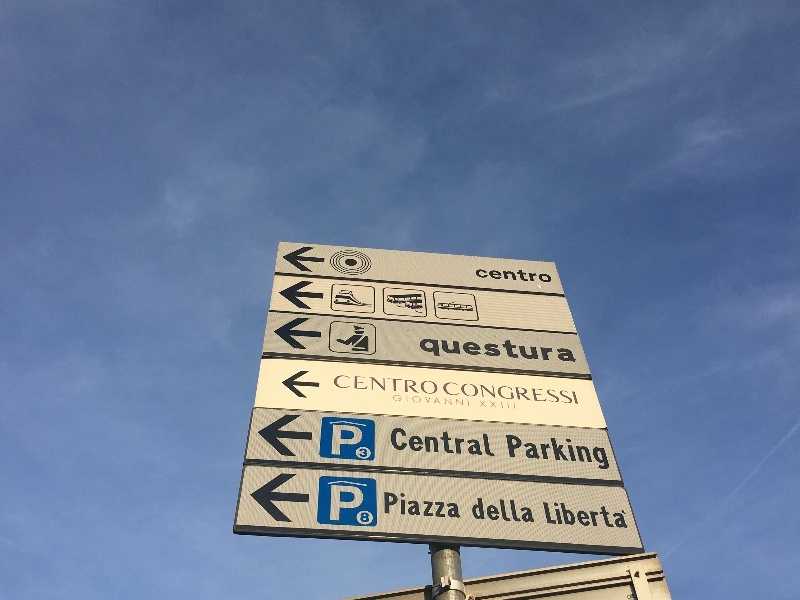text: (337, 485, 352, 523), (353, 485, 367, 523), (513, 435, 528, 470), (529, 435, 544, 470), (545, 435, 560, 470), (561, 435, 576, 470), (577, 435, 592, 470), (593, 435, 608, 470), (337, 424, 352, 455), (401, 427, 416, 456), (417, 427, 432, 456), (433, 427, 448, 456), (449, 427, 464, 456), (465, 427, 480, 456), (561, 337, 577, 363), (481, 427, 495, 456), (433, 337, 448, 363), (449, 337, 464, 363), (465, 337, 480, 363), (481, 337, 496, 363), (497, 337, 512, 363), (513, 337, 528, 363), (529, 337, 544, 363), (545, 337, 560, 363), (385, 492, 400, 518), (401, 492, 416, 518), (417, 492, 432, 518), (433, 492, 448, 518), (545, 503, 560, 528), (561, 503, 576, 528), (577, 503, 592, 528), (593, 503, 608, 528), (609, 503, 624, 528), (353, 424, 365, 455), (481, 499, 496, 523), (497, 499, 512, 523), (513, 499, 528, 523), (449, 382, 464, 404), (465, 382, 480, 404), (481, 382, 496, 404), (497, 382, 512, 404), (513, 382, 528, 404), (529, 382, 544, 404), (545, 382, 560, 404), (561, 382, 576, 404), (420, 337, 432, 363), (449, 492, 461, 518), (337, 375, 352, 394), (353, 375, 368, 394), (369, 375, 384, 394), (385, 375, 400, 394), (401, 375, 416, 394), (417, 375, 432, 394), (481, 268, 496, 284), (497, 268, 512, 284), (513, 268, 528, 284), (529, 268, 544, 284), (392, 427, 400, 456), (506, 435, 512, 470), (472, 499, 480, 523), (331, 485, 336, 523), (401, 395, 416, 406), (417, 395, 432, 406), (433, 395, 448, 406), (449, 395, 464, 406), (529, 499, 535, 523), (481, 401, 496, 409), (497, 401, 512, 409), (545, 268, 552, 284), (625, 503, 629, 528), (433, 375, 438, 394), (333, 424, 336, 455), (444, 382, 448, 404), (360, 449, 368, 458), (361, 513, 368, 523), (394, 395, 400, 406), (476, 268, 480, 284), (465, 395, 470, 406), (609, 435, 610, 470), (543, 503, 544, 528), (513, 401, 516, 409), (577, 382, 578, 404), (335, 375, 336, 394)
